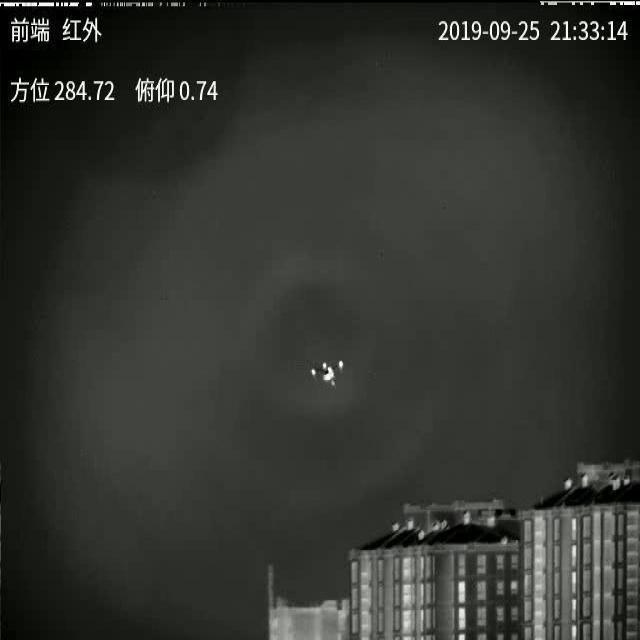drone: (311, 360, 344, 387)
